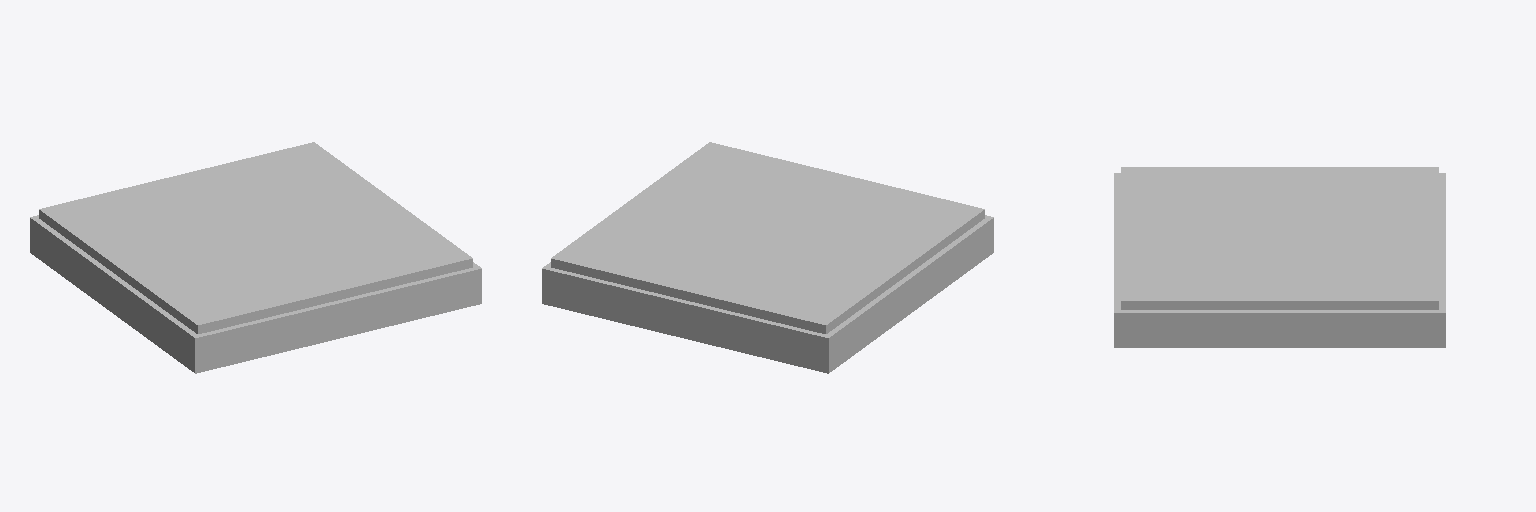
The model's file is floor.obj.
3 views of the same model, side by side, from view 1: azimuth 30°, elevation 25°; view 2: azimuth 150°, elevation 25°; view 3: azimuth 270°, elevation 25° (orthographic).
Parts seen in each view (by area): view 1: floor_Cube, floor_col_Cube.001; view 2: floor_Cube, floor_col_Cube.001; view 3: floor_Cube, floor_col_Cube.001.
Boxes of the visible parts, box(x1,y1,x2,y2) form: floor_Cube: box(30, 142, 481, 373); floor_col_Cube.001: box(30, 215, 481, 372); floor_Cube: box(542, 142, 993, 373); floor_col_Cube.001: box(542, 215, 993, 372); floor_Cube: box(1114, 167, 1445, 347); floor_col_Cube.001: box(1114, 173, 1445, 347).
Bounding box in the file's own units: 2 × 0.2963 × 2.